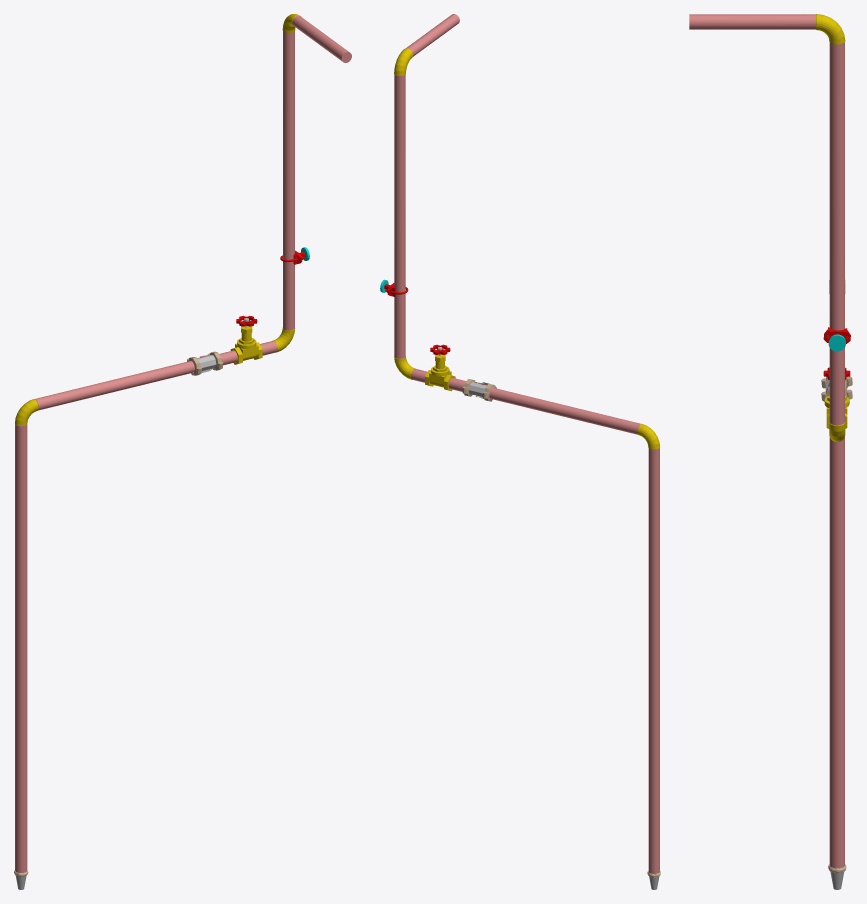
Rendered from succion_jockey.glb.
3 renders of one model, left to right at view 1: azimuth 30°, elevation 25°; view 2: azimuth 150°, elevation 25°; view 3: azimuth 270°, elevation 25°, orthographic. The views are drawn at different scales.
Parts seen in each view (by area): view 1: n16_p0_255_92_92, n20_p0_255_92_92, n48_p0_255_92_92, n52_p0_255_92_92; view 2: n16_p0_255_92_92, n20_p0_255_92_92, n48_p0_255_92_92, n52_p0_255_92_92; view 3: n16_p0_255_92_92, n20_p0_255_92_92, n52_p0_255_92_92, n50_p0_255_191_0.
Boxes of the visible parts, x1,y1,x2,y2 form: n16_p0_255_92_92: (15, 424, 27, 872); n20_p0_255_92_92: (283, 31, 294, 330); n48_p0_255_92_92: (35, 340, 277, 410); n52_p0_255_92_92: (292, 15, 351, 62); n16_p0_255_92_92: (648, 448, 659, 873); n20_p0_255_92_92: (394, 74, 405, 358); n48_p0_255_92_92: (411, 368, 640, 434); n52_p0_255_92_92: (406, 14, 459, 56); n16_p0_255_92_92: (829, 437, 844, 868); n20_p0_255_92_92: (829, 42, 844, 425); n52_p0_255_92_92: (689, 14, 815, 29); n50_p0_255_191_0: (816, 14, 845, 44).
Size of the model in its own units: 1.39 by 3.71 by 0.5293.
